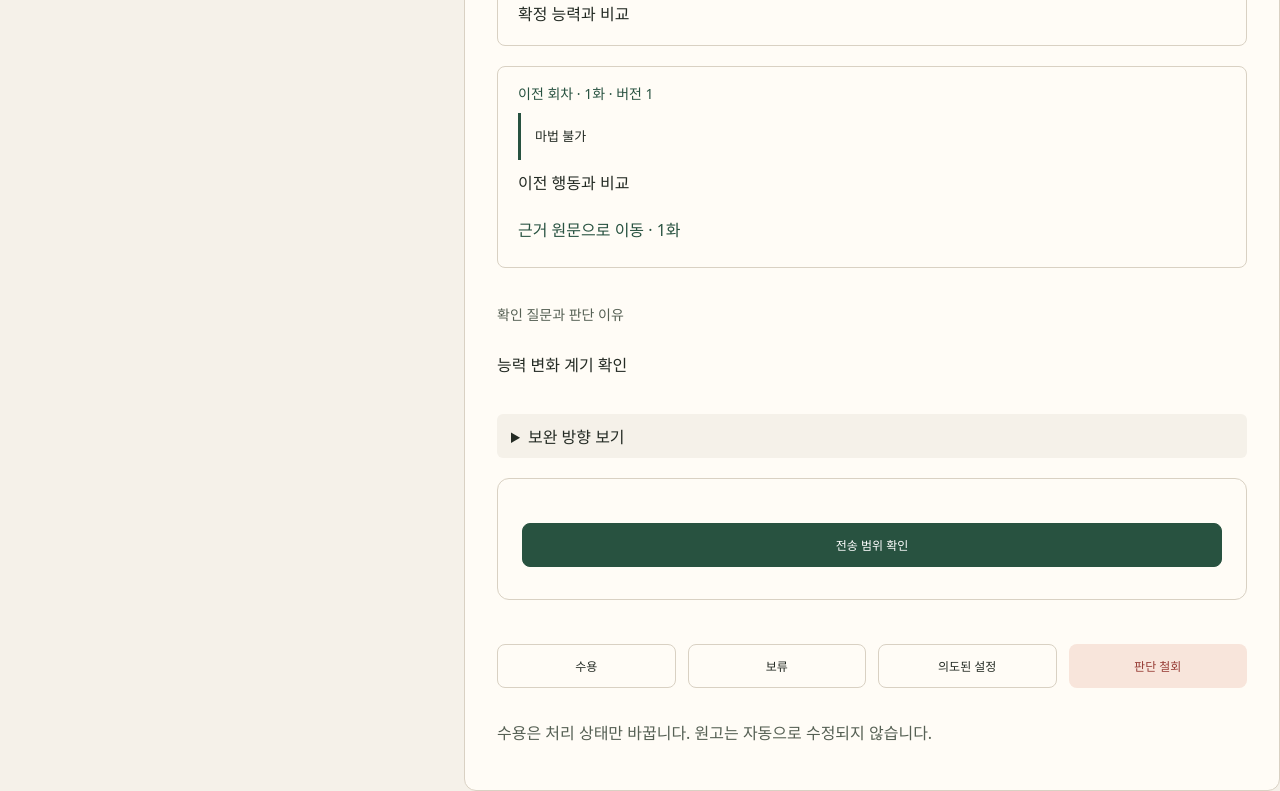
Test: 확인한 제안만 두 번째 인용 위치에 적용해 일반 저장 대상으로 만든다
(page scrolled)
Step 1. Click the button "전송 범위 확인" → (872,545), box [522,523,1222,567]
(page scrolled)
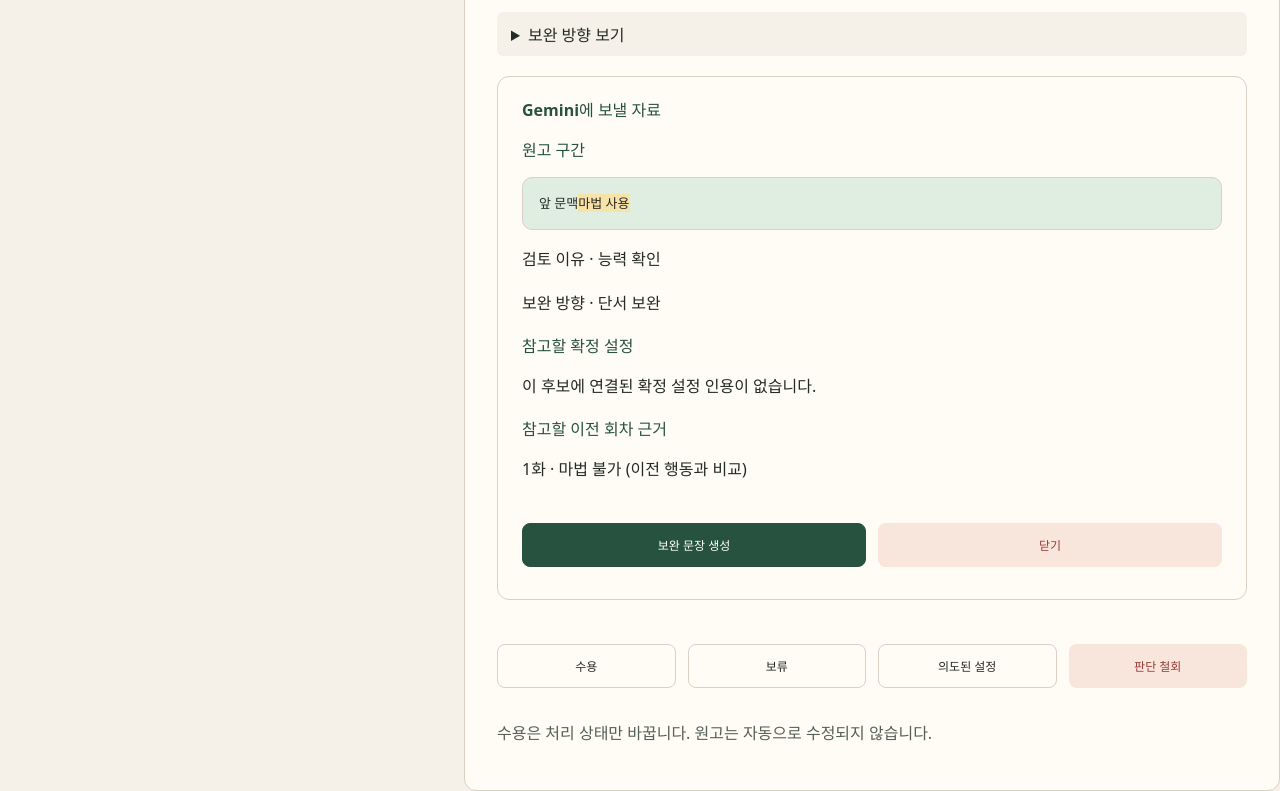
Expected: the text "앞 문맥" is shown, [539,194,578,212]
Expected: the text "1화 · 마법 불가 (이전 행동과 비교)" is shown, [522,458,747,480]
Step 2. Click the button "보완 문장 생성" → (694,545), box [522,523,866,567]
(page scrolled)
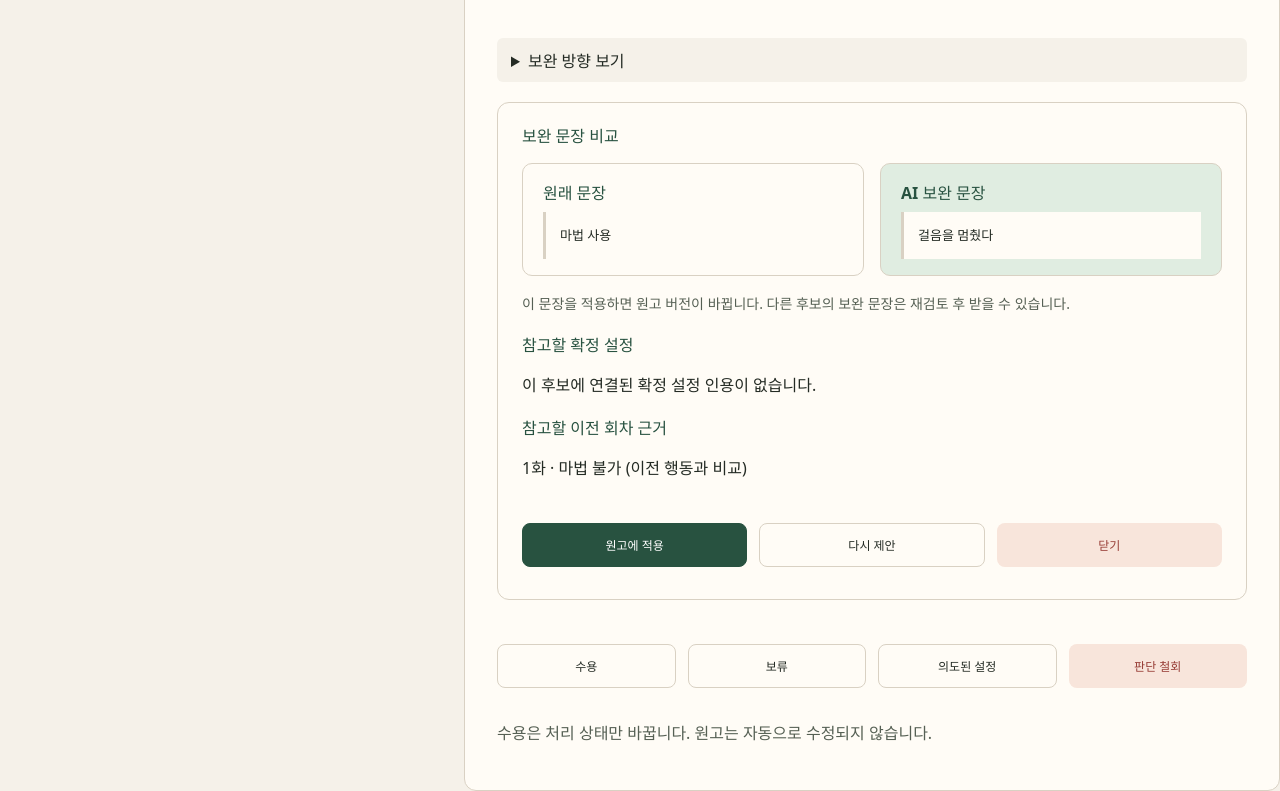
Expected: the text "이 문장을 적용하면 원고 버전이 바뀝니다. 다른 후보의 보완 문장은 재검토 후 받을 수 있습니다." is shown, [522,294,1070,314]
Step 3. Click the button "원고에 적용" → (635,545), box [522,523,747,567]
(page scrolled)
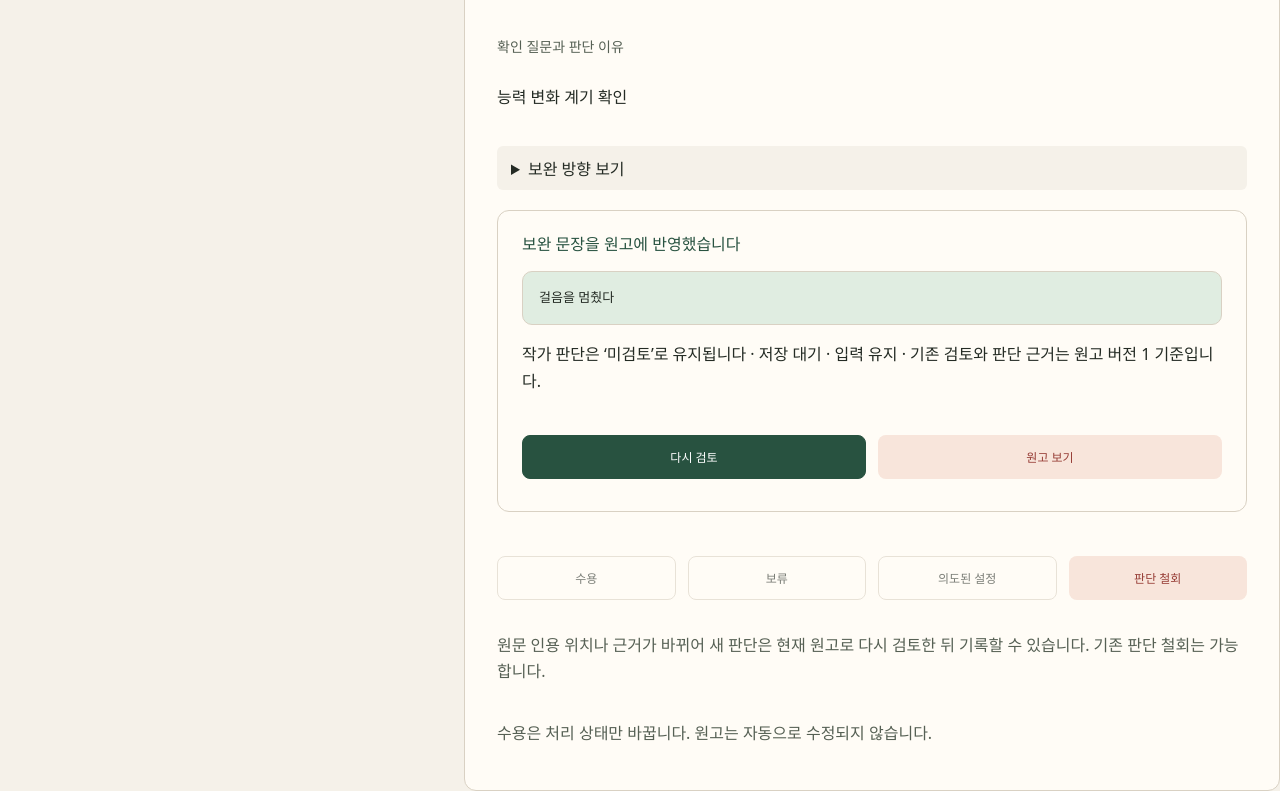
Expected: the heading "보완 문장을 원고에 반영했습니다" is shown, [522,234,741,256]
Expected: the text "작가 판단은 ‘미검토’로 유지됩니다 · 저장 대기 · 입력 유지 · 기존 검토와 판단 근거는 원고 버전 1 기준입니다." is shown, [522,341,1222,395]
Expected: the button "수용" is disabled, [497,556,676,600]
